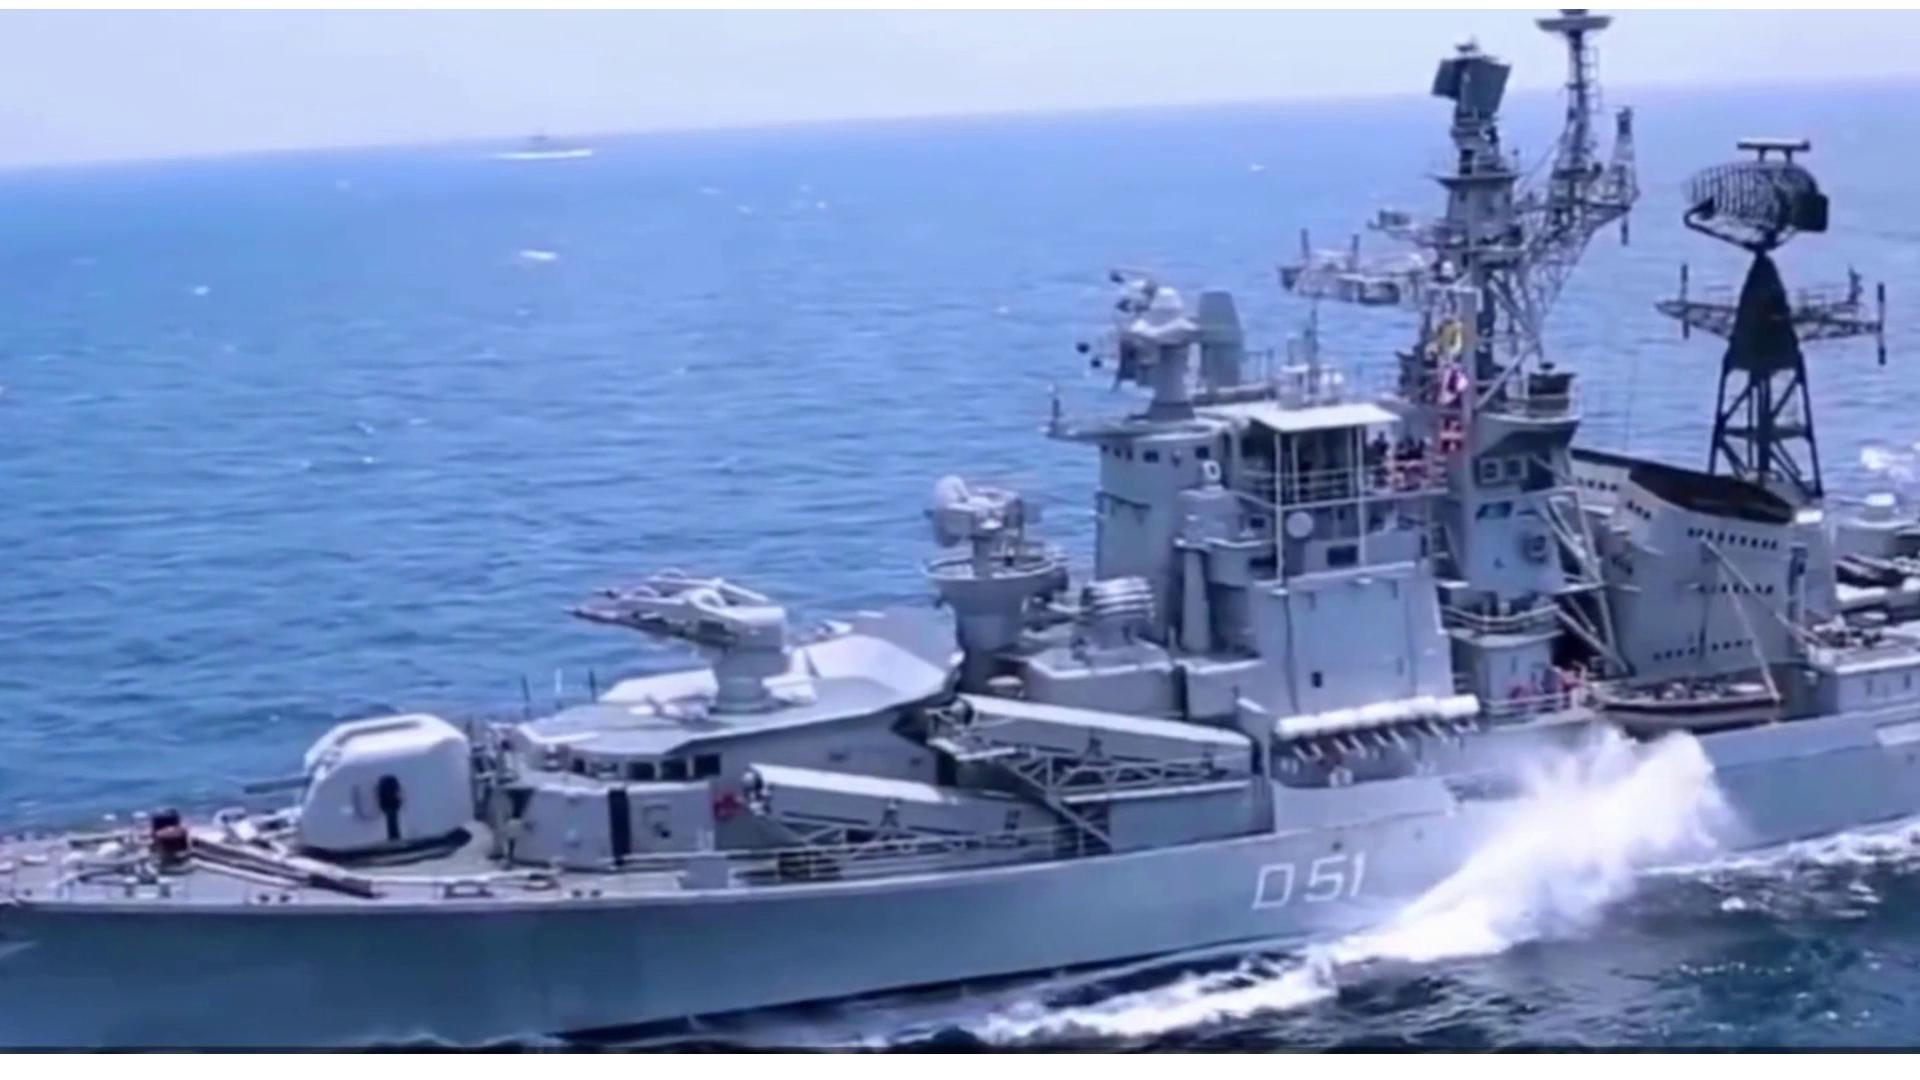OCR: (1234, 837, 1373, 924)
